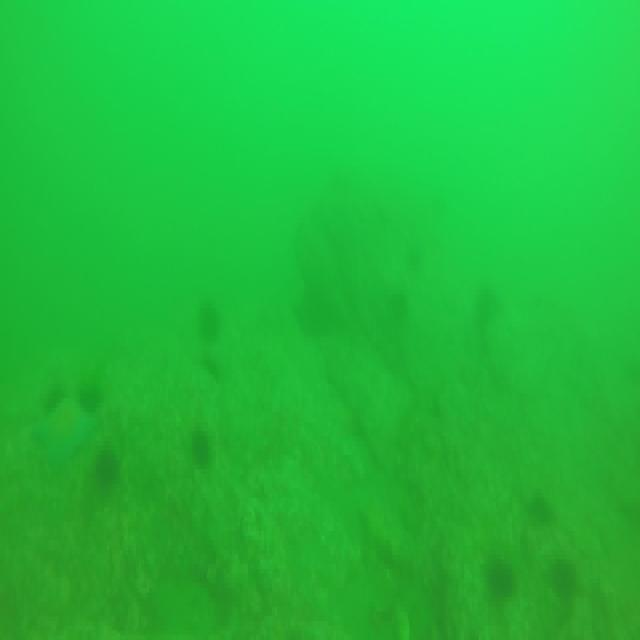echinus: (488, 552, 516, 601), (97, 444, 121, 492), (560, 557, 580, 602), (199, 300, 219, 338), (534, 494, 555, 529), (193, 434, 212, 469), (47, 383, 70, 409), (80, 383, 102, 410)
starfish: (35, 403, 89, 469)
